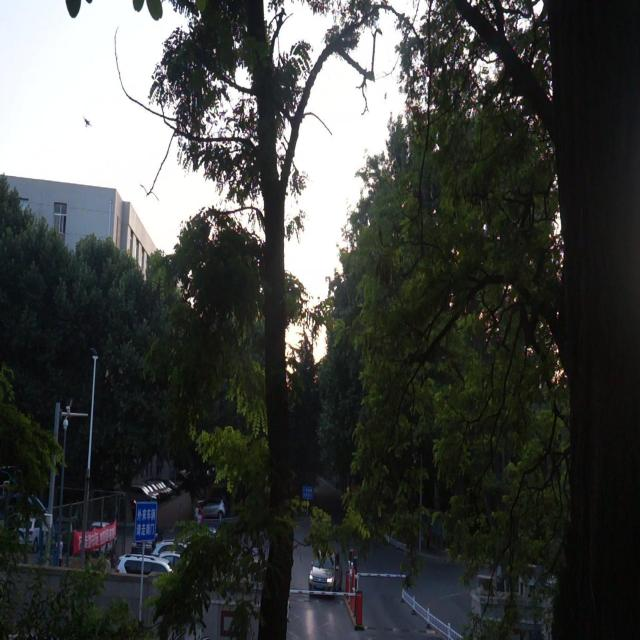UAV: (83, 115, 92, 127)
